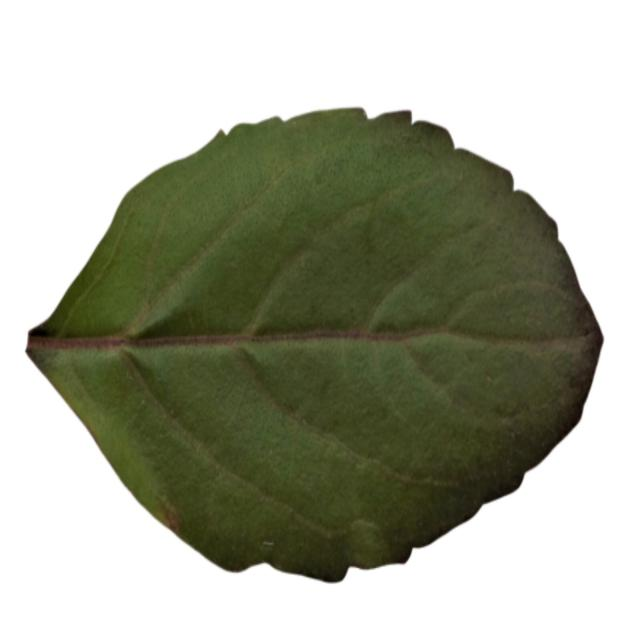tulsi: (27, 91, 608, 584)
